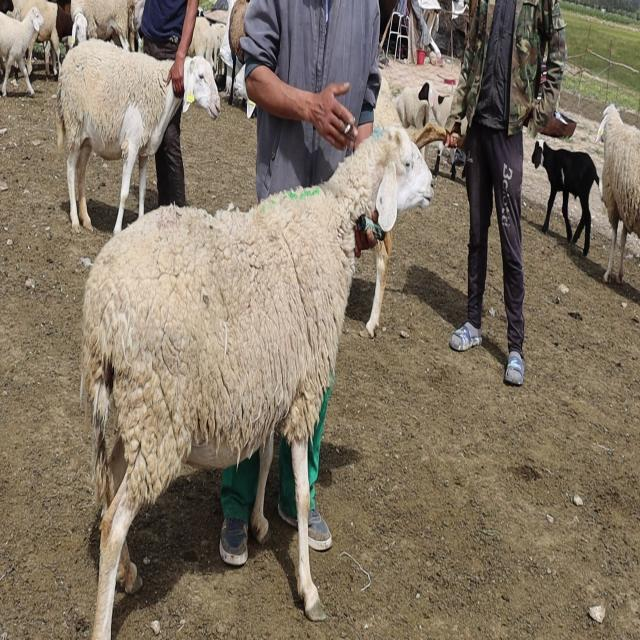Score_4: (81, 125, 433, 639)
